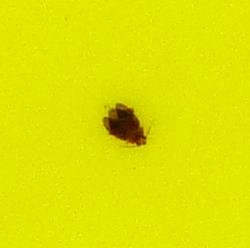Coleoptera: (100, 100, 150, 148)
